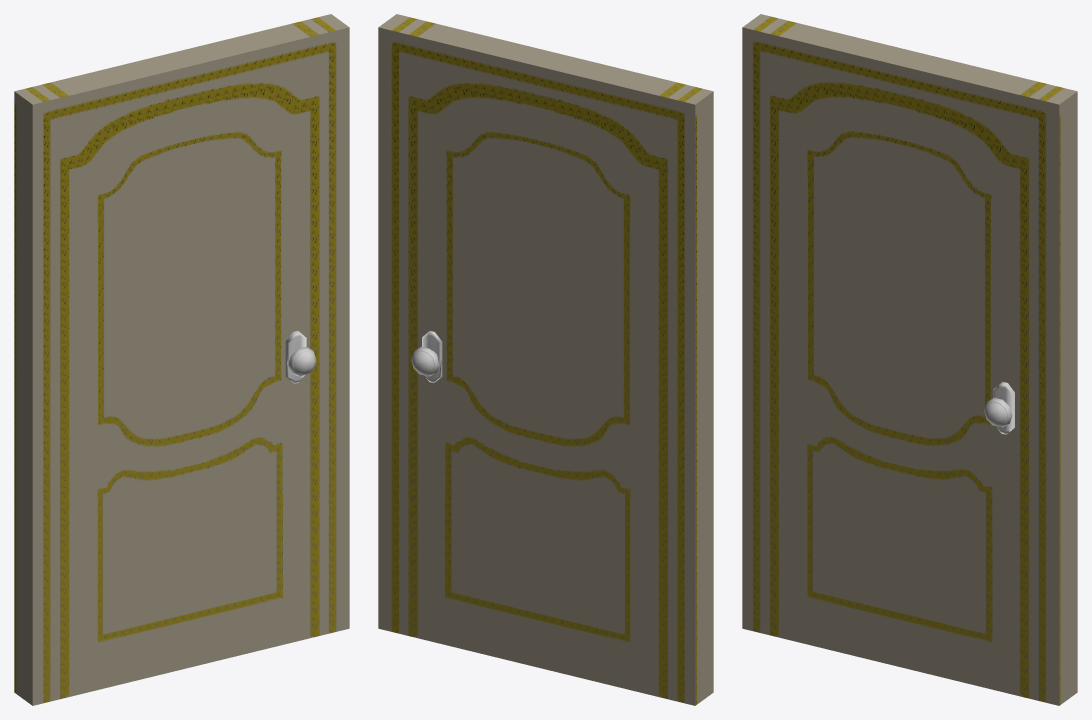
Rendered from Door.fbx.
3 renders of one model, left to right at view 1: azimuth 30°, elevation 25°; view 2: azimuth 150°, elevation 25°; view 3: azimuth 330°, elevation 25°, orthographic.
Parts seen in each view (by area): view 1: Door; view 2: Door; view 3: Door.
Boxes of the visible parts, left/top/right/bottom form: Door: left=14, top=14, right=349, bottom=705; Door: left=378, top=14, right=713, bottom=705; Door: left=742, top=14, right=1077, bottom=705.
Size of the model in its own units: 129 by 234 by 30.89.
